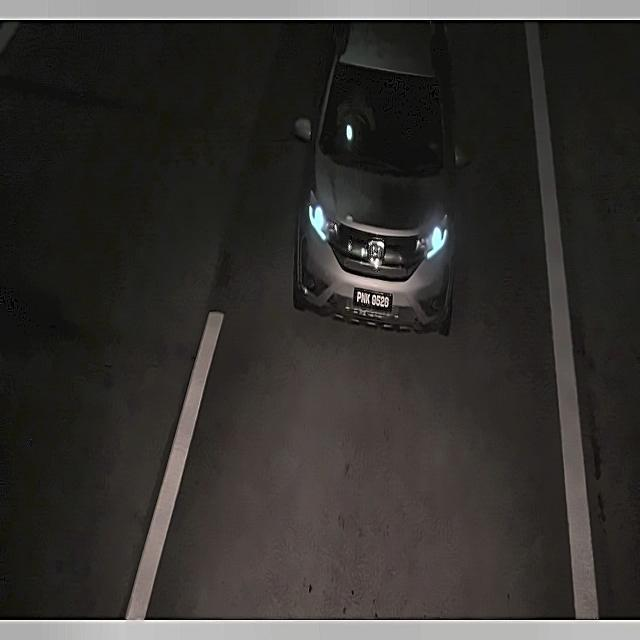car: (353, 286, 394, 317)
